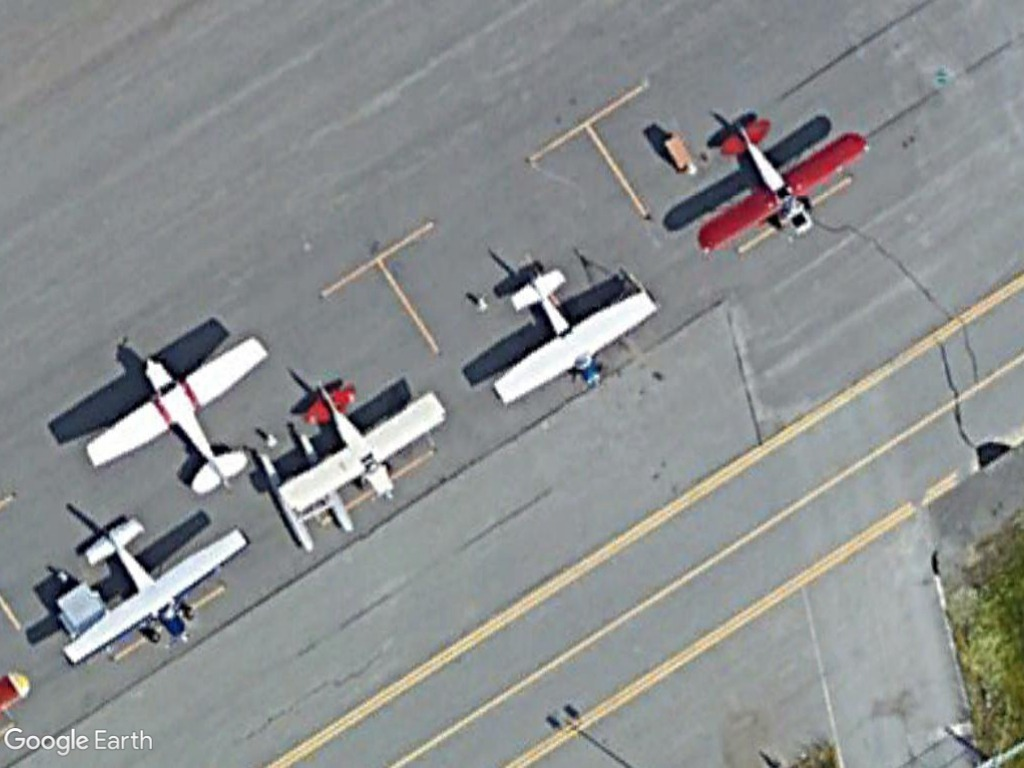trainer: (55, 506, 250, 672), (79, 329, 273, 494), (482, 256, 661, 419), (688, 120, 873, 257), (277, 380, 452, 522)
